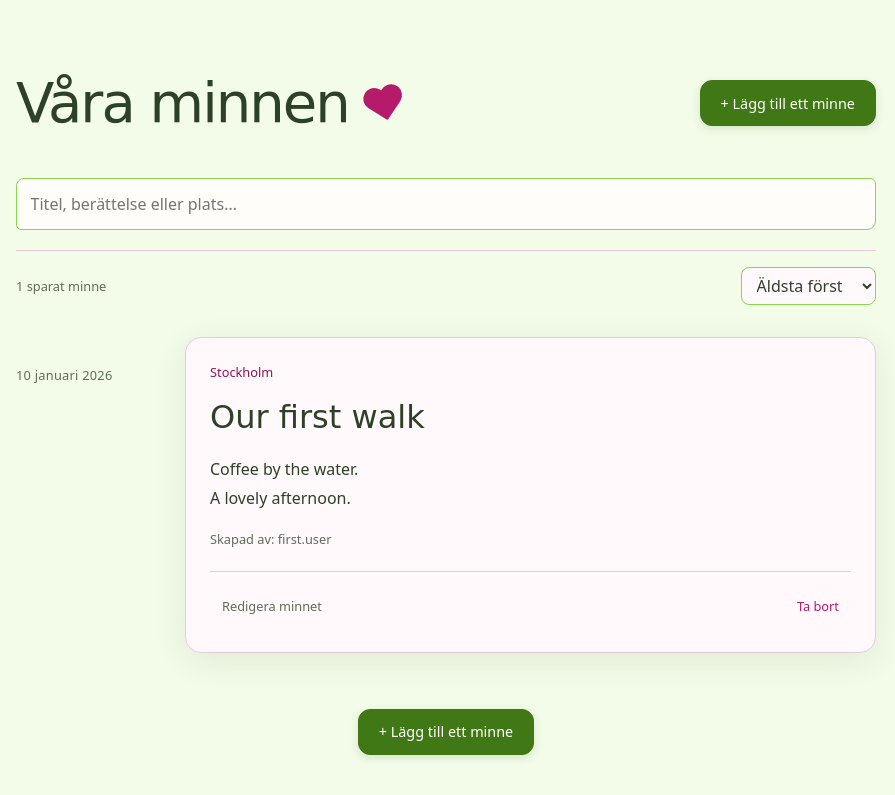
Test: our story › keeps a conflicting draft and reloads only after confirmation
Click the button "Redigera minnet" at coordinates (272, 606), box [210,584,334,628]
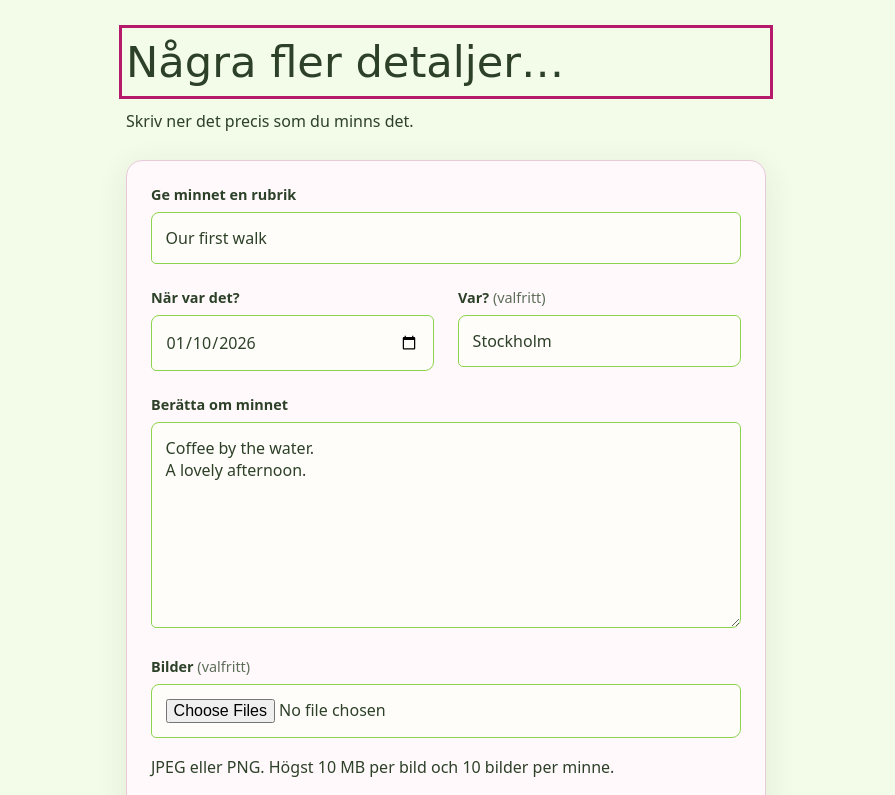
Replace the text in the field labelled "Ge minnet en rubrik" with "My draft" at coordinates (446, 238), box [151,212,741,264]
(page scrolled)
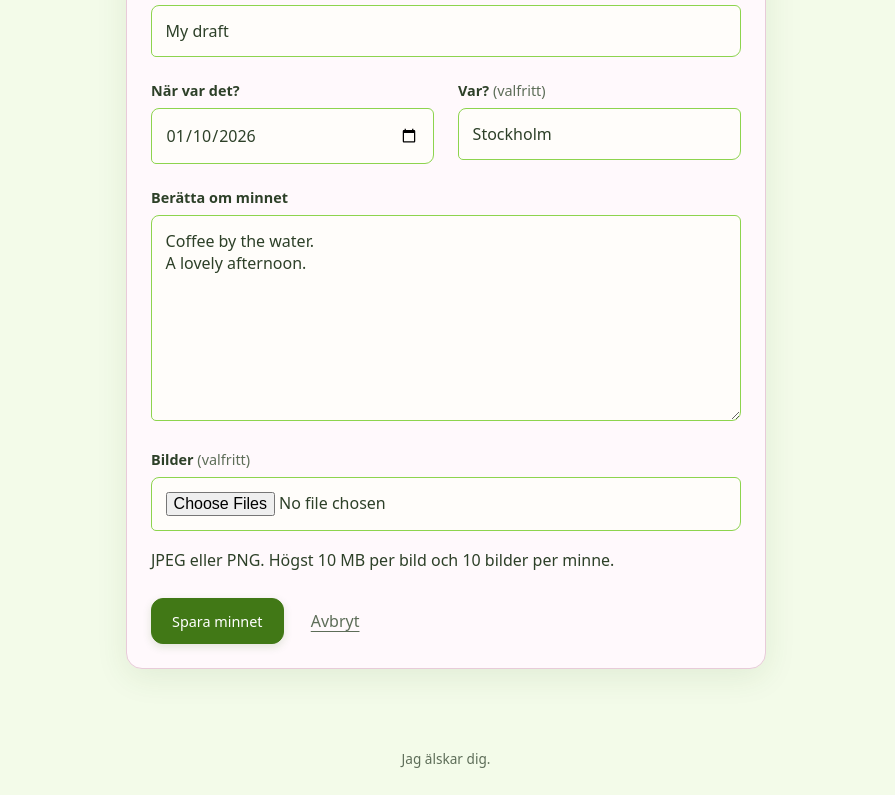
Click the button "Spara minnet" at coordinates (217, 621), box [151,598,284,644]
(page scrolled)
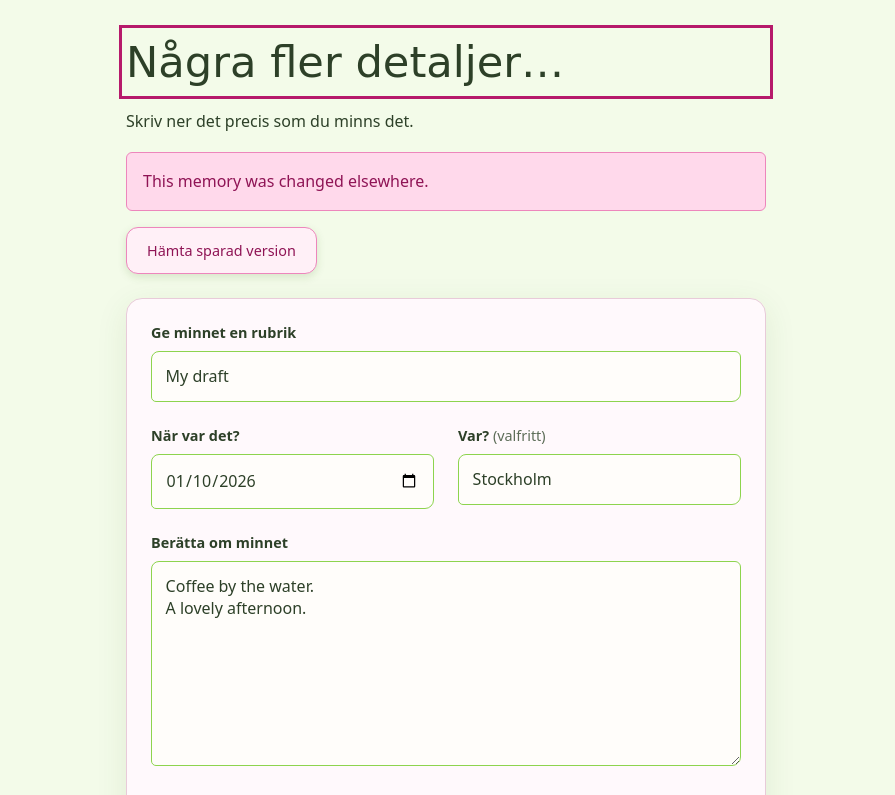
expect the message "This memory was changed elsewhere." is shown: met, box [126,152,766,211]
Click the button "Hämta sparad version" at coordinates (221, 251), box [126,227,317,274]
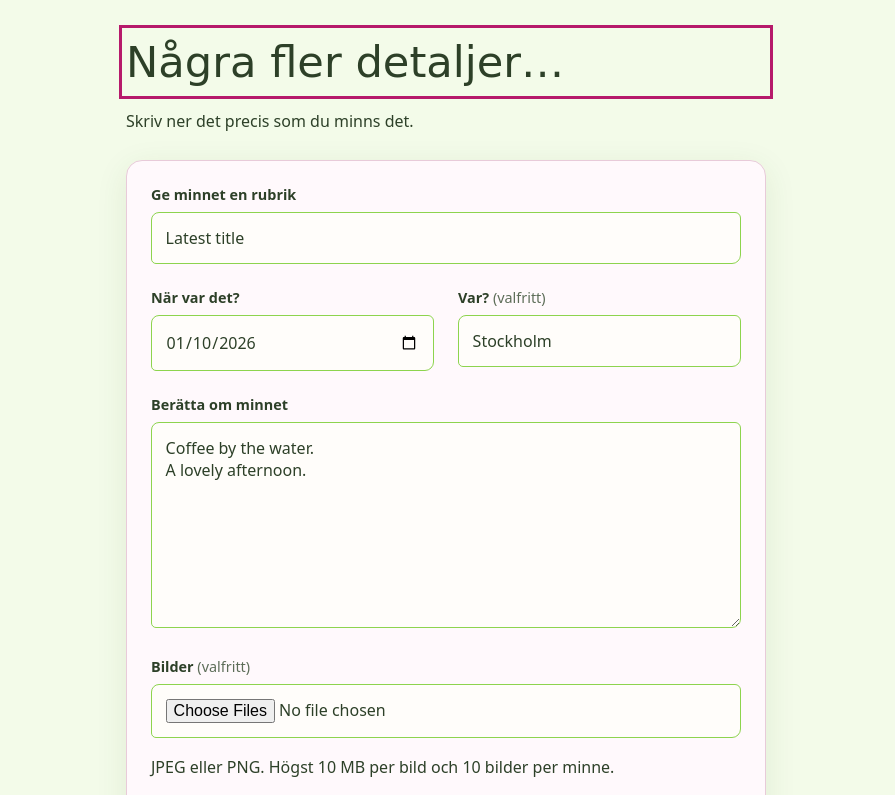
expect the field labelled "Ge minnet en rubrik" holds "Latest title": met, box [151,212,741,264]
